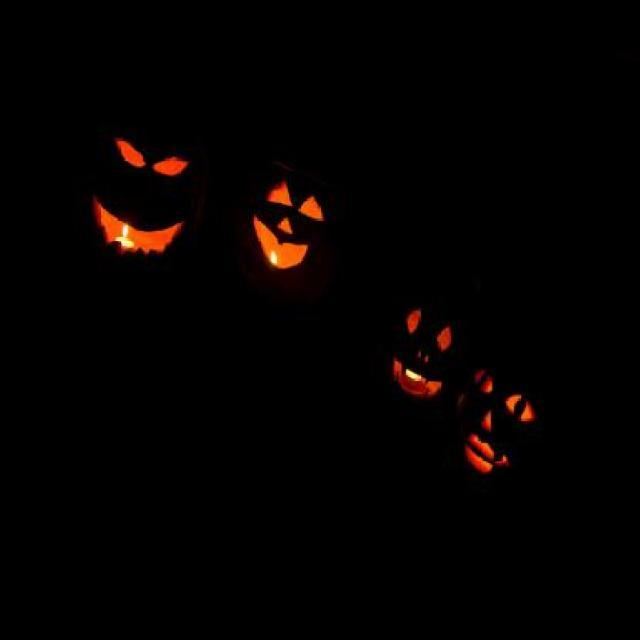Pumpkin: (69, 92, 211, 306), (222, 148, 356, 320), (356, 269, 478, 423), (446, 343, 564, 502)
